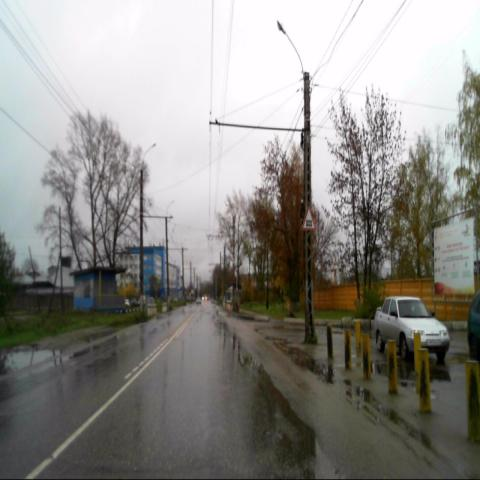1_1: (300, 206, 318, 232)
